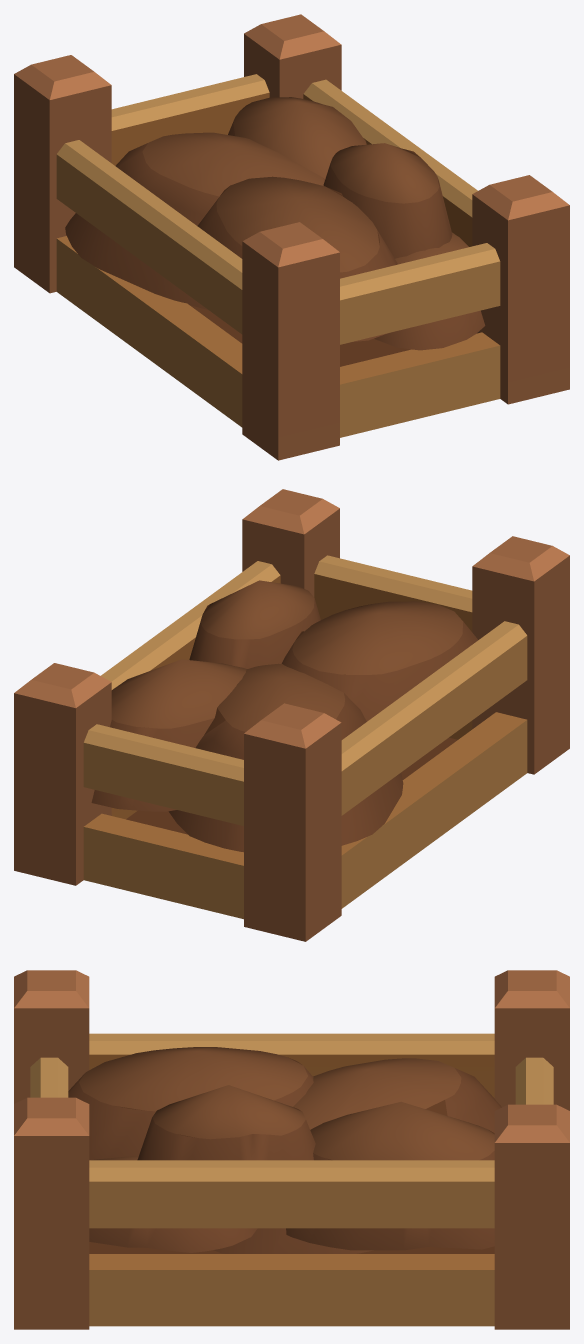
Rendered from BoxPoop.fbx.
3 views of the same model, one above another, from view 1: azimuth 30°, elevation 25°; view 2: azimuth 150°, elevation 25°; view 3: azimuth 270°, elevation 25° (orthographic). The views are drawn at different scales.
Parts seen in each view (by area): view 1: BoxPoop; view 2: BoxPoop; view 3: BoxPoop.
Boxes of the visible parts, x1,y1,x2,y2 form: BoxPoop: (14, 14, 569, 460); BoxPoop: (14, 489, 569, 941); BoxPoop: (14, 970, 569, 1329).
Bounding box in the file's own units: 1.41 × 0.9477 × 2.22.
